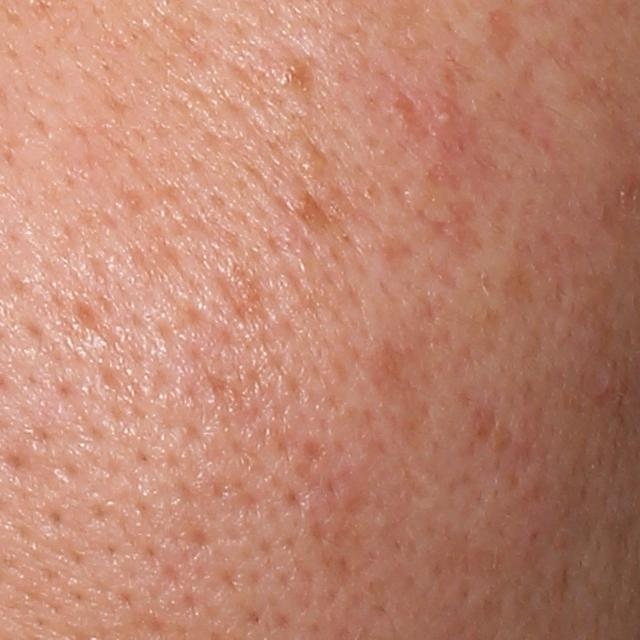atrophic_scar: (484, 7, 523, 65)
